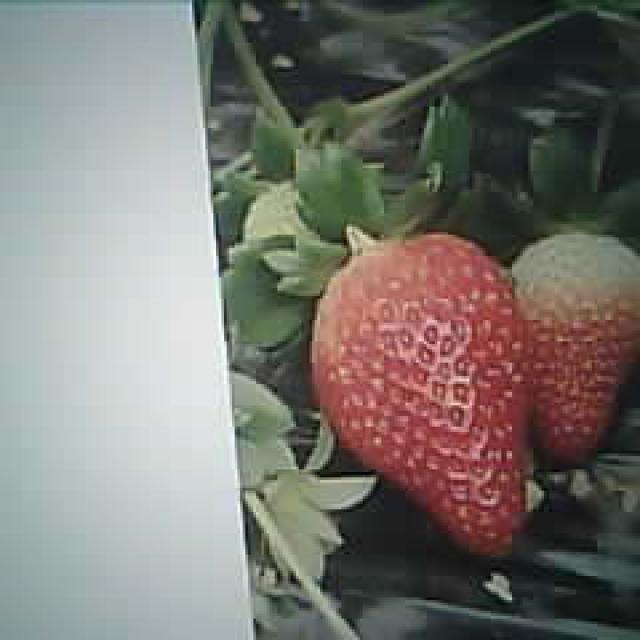ripe: (311, 229, 531, 555)
unripe: (506, 229, 640, 453)
